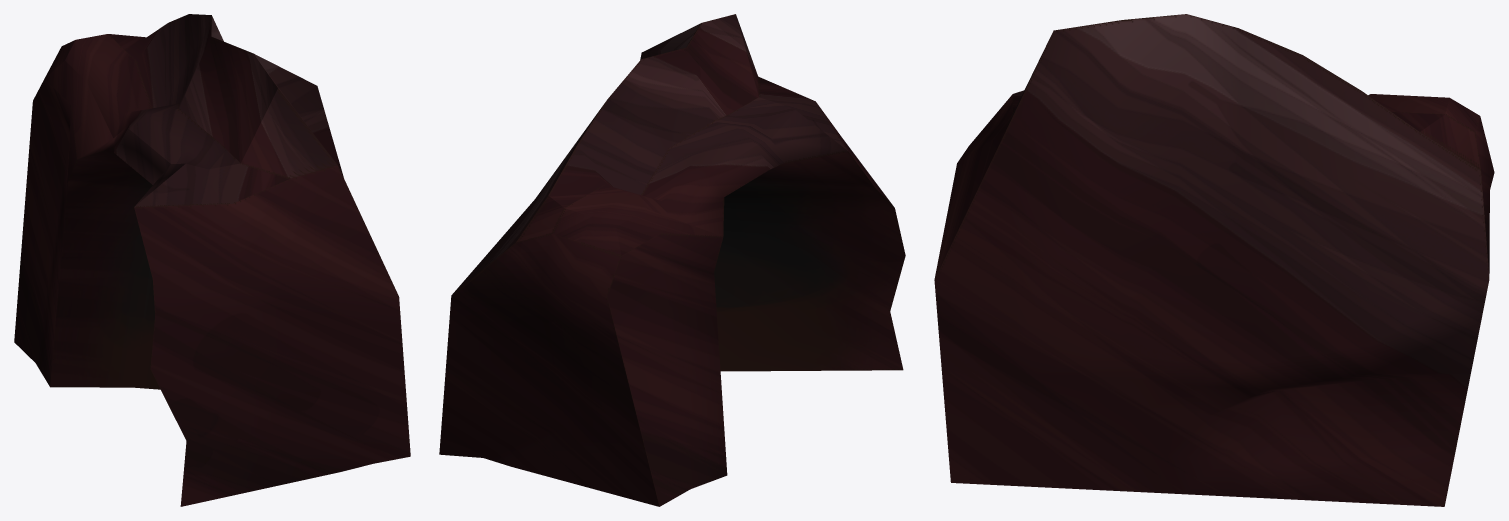
The model's file is Boulder Cave.FBX.
The picture shows the model from 3 angles, left to right: view 1: azimuth 30°, elevation 25°; view 2: azimuth 150°, elevation 25°; view 3: azimuth 270°, elevation 25°; orthographic projection. The views are drawn at different scales.
Parts seen in each view (by area): view 1: Boulder Cave; view 2: Boulder Cave; view 3: Boulder Cave.
Boxes of the visible parts, bbox=[...] form: Boulder Cave: bbox=[14, 14, 410, 506]; Boulder Cave: bbox=[439, 14, 905, 506]; Boulder Cave: bbox=[934, 14, 1494, 506].
Bounding box in the file's own units: 98.05 × 124 × 149.
Materials: 1 (1 with a texture image).
